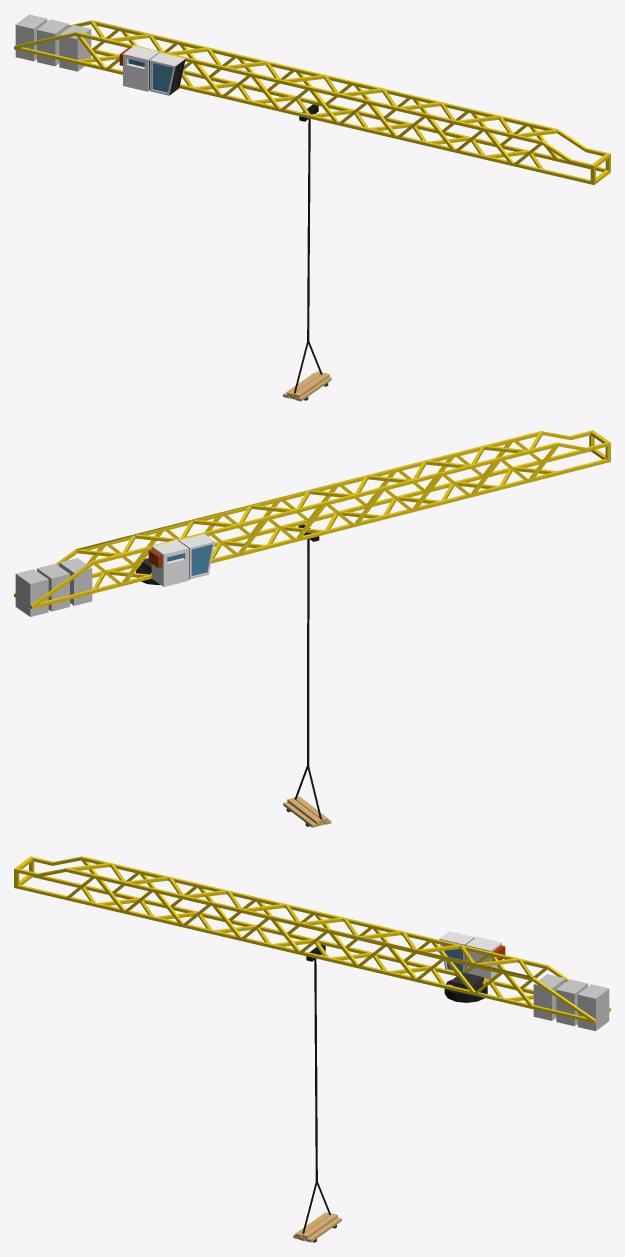
The model's file is Crane_head.glb.
The picture shows the model from 3 angles, top to bottom: view 1: azimuth 90°, elevation 25°; view 2: azimuth 150°, elevation 25°; view 3: azimuth 270°, elevation 25°; orthographic projection.
Visible parts, largest first — view 1: Crane Ground.001; view 2: Crane Ground.001; view 3: Crane Ground.001.
Part boxes in pixels (left/top/right/bottom): Crane Ground.001: left=14, top=14, right=610, bottom=401; Crane Ground.001: left=14, top=430, right=610, bottom=827; Crane Ground.001: left=14, top=856, right=610, bottom=1242.
Bounding box in the file's own units: 24.48 × 24.1 × 41.61.
Materials: 1 (1 with a texture image).
